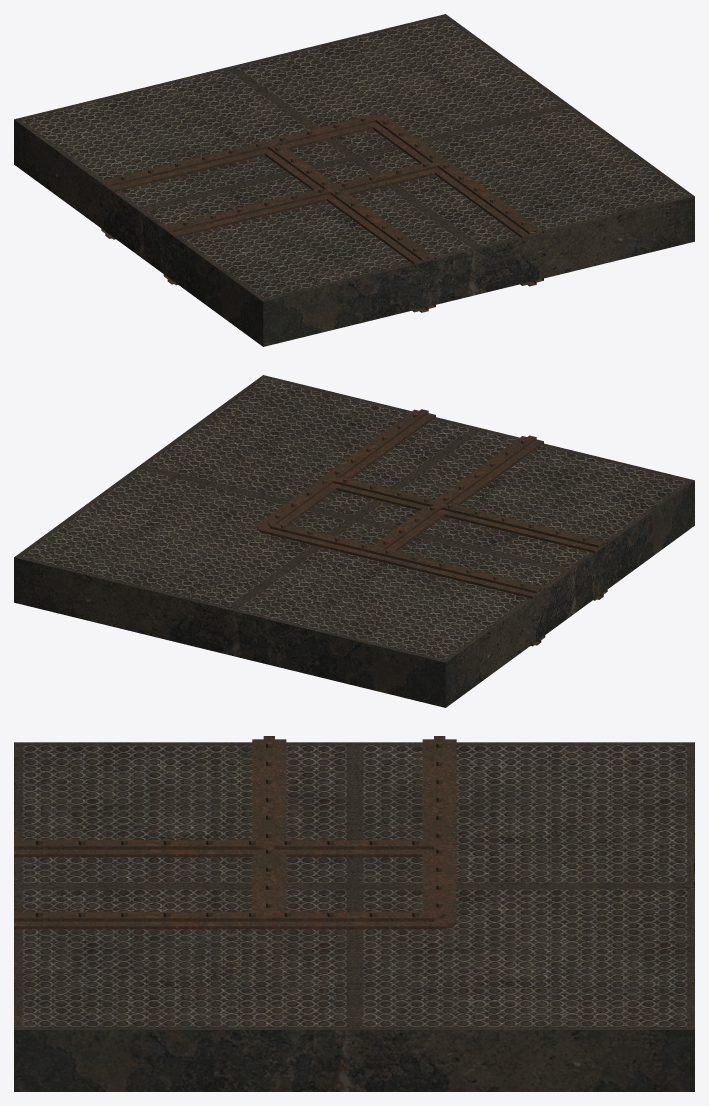
The model's file is floor_ceiling_rtx_1_corner.obj.
3 renders of one model, top to bottom at view 1: azimuth 30°, elevation 25°; view 2: azimuth 150°, elevation 25°; view 3: azimuth 270°, elevation 25°, orthographic. The views are drawn at different scales.
Visible parts, largest first — view 1: floor_ceiling_rtx_1_corner; view 2: floor_ceiling_rtx_1_corner; view 3: floor_ceiling_rtx_1_corner.
Boxes of the visible parts, x1,y1,x2,y2 form: floor_ceiling_rtx_1_corner: (14,14,694,346); floor_ceiling_rtx_1_corner: (14,375,694,707); floor_ceiling_rtx_1_corner: (14,736,694,1091).
Size of the model in its own units: 4 by 0.5303 by 4.
